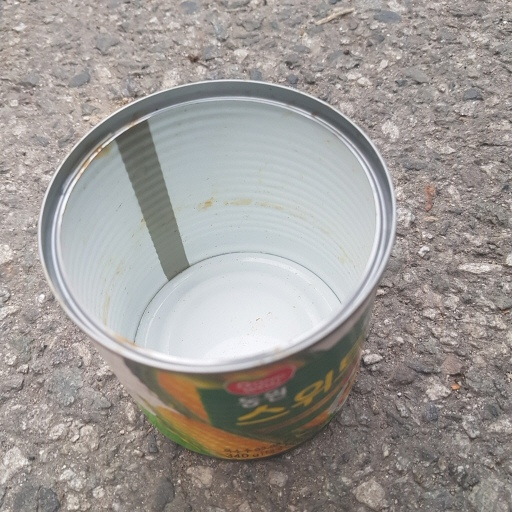Metal_1: (44, 78, 395, 465)
